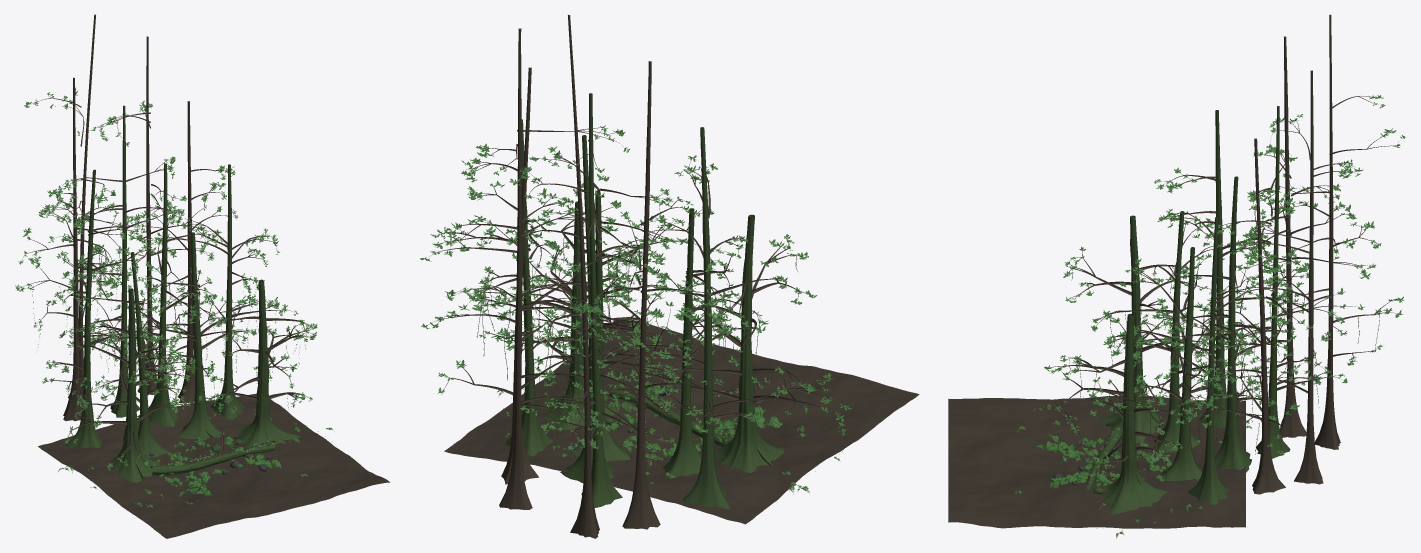
Rendered from jungle-opt.glb.
The picture shows the model from 3 angles, left to right: view 1: azimuth 30°, elevation 25°; view 2: azimuth 150°, elevation 25°; view 3: azimuth 270°, elevation 25°; orthographic projection. The views are drawn at different scales.
Visible parts, largest first — view 1: Ground.001, Canopy, Branches, Trunk_0, Trunk_1, Trunk_4, Trunk_3, Trunk_5, Ferns, Trunk_9, Trunk_6, Trunk_7 (+6 smaller); view 2: Ground.001, Canopy, Branches, Trunk_0, Trunk_4, Trunk_9, Trunk_10, Trunk_11, Trunk_7, Trunk_2, Trunk_1, Trunk_6 (+6 smaller); view 3: Ground.001, Canopy, Branches, Trunk_1, Trunk_5, Trunk_10, Trunk_8, Trunk_3, Trunk_11, Trunk_6, Trunk_9, Ferns (+6 smaller).
Boxes of the visible parts, x1,y1,x2,y2 form: Ground.001: (38, 393, 390, 538); Canopy: (15, 88, 317, 470); Branches: (22, 96, 312, 464); Trunk_0: (107, 288, 160, 482); Trunk_1: (238, 279, 301, 447); Trunk_4: (64, 169, 102, 448); Trunk_3: (176, 232, 221, 440); Trunk_5: (137, 163, 178, 426); Ferns: (58, 409, 332, 507); Trunk_9: (63, 77, 82, 421); Trunk_6: (210, 164, 245, 419); Trunk_7: (110, 105, 139, 417); Ground.001: (444, 319, 919, 524); Canopy: (420, 125, 851, 465); Branches: (427, 127, 840, 460); Trunk_0: (715, 214, 784, 472); Trunk_4: (683, 127, 729, 509); Trunk_9: (622, 61, 660, 529); Trunk_10: (499, 28, 532, 509); Trunk_11: (568, 15, 599, 538); Trunk_7: (581, 93, 622, 507); Trunk_2: (663, 208, 701, 478); Trunk_1: (543, 201, 618, 430); Trunk_6: (505, 119, 553, 456); Ground.001: (948, 395, 1245, 528); Canopy: (1044, 95, 1405, 473); Branches: (1051, 96, 1398, 470); Trunk_1: (1101, 313, 1167, 514); Trunk_5: (1215, 176, 1251, 472); Trunk_10: (1294, 70, 1323, 484); Trunk_8: (1252, 138, 1285, 494); Trunk_3: (1157, 247, 1202, 481); Trunk_11: (1315, 14, 1340, 449); Trunk_6: (1188, 217, 1228, 504); Trunk_9: (1280, 36, 1306, 437); Ferns: (1014, 390, 1222, 538).
Size of the model in its own units: 54.09 by 76.73 by 70.86.
